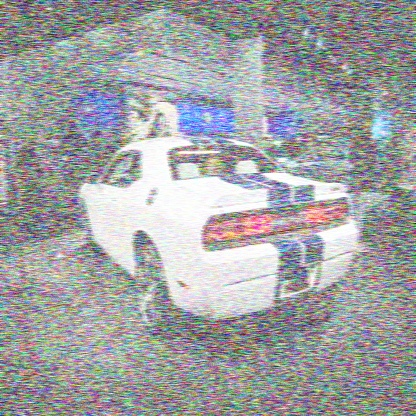Vehicle: (79, 138, 359, 342)
